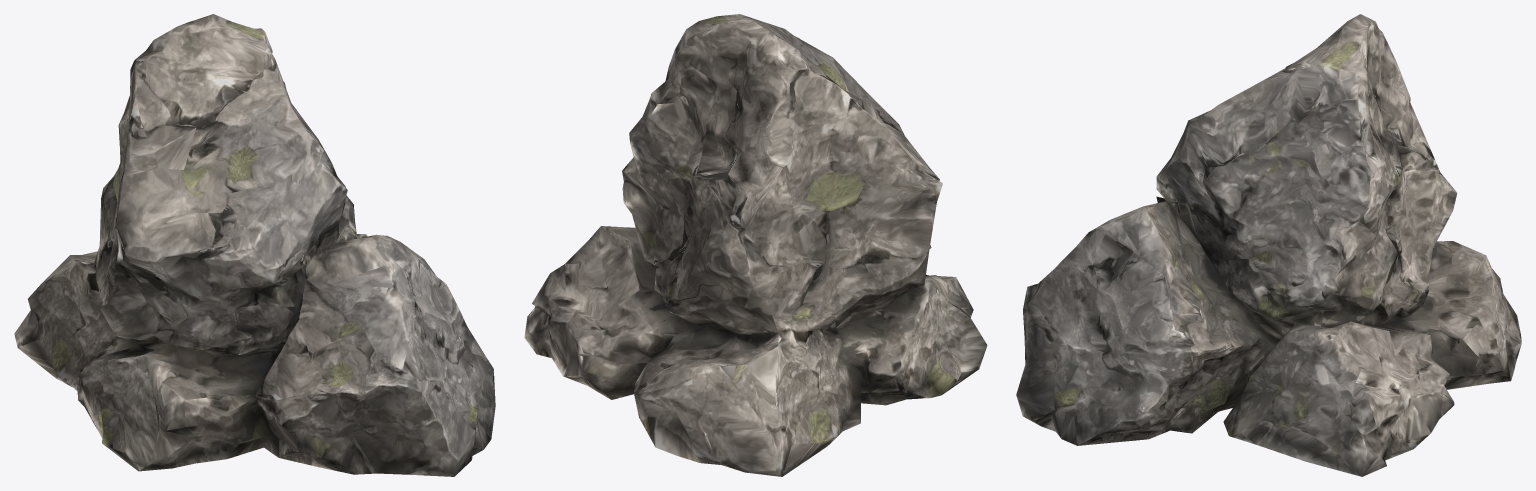
The model's file is boulder_f_lod1.glb.
3 views of the same model, side by side, from view 1: azimuth 30°, elevation 25°; view 2: azimuth 150°, elevation 25°; view 3: azimuth 270°, elevation 25° (orthographic). The views are drawn at different scales.
Visible parts, largest first — view 1: boulder_f_lod1; view 2: boulder_f_lod1; view 3: boulder_f_lod1.
Part boxes in pixels (<box>): boulder_f_lod1: <box>14,14,495,476</box>; boulder_f_lod1: <box>524,14,987,476</box>; boulder_f_lod1: <box>1016,14,1521,476</box>.
Bounding box in the file's own units: 3.22 × 3.07 × 3.97.
Materials: 1 (1 with a texture image).
